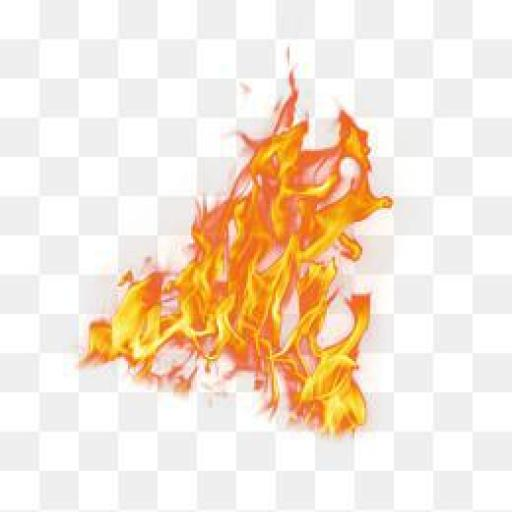fire: (61, 66, 398, 455)
